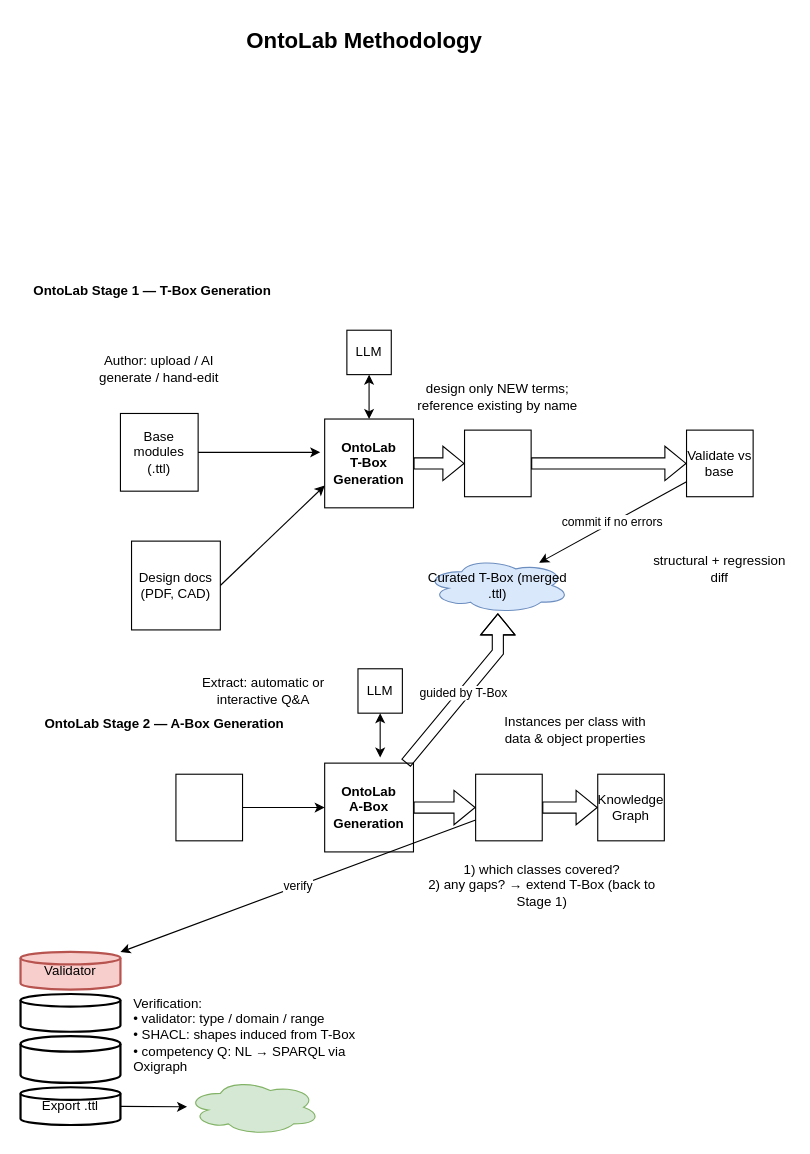
Some shapes in this 810 by 1154 pixel diagram are drawn without their labels. The shapes that lost their labels are listed below. From the top down, each one's centre as x and y in pixels, then its label:
At (x=497, y=463): "Candidate T-Box".
At (x=209, y=807): "Design docs (PDF, DOCX)".
At (x=508, y=807): "A-Box".
At (x=70, y=1012): "SHACL".
At (x=70, y=1059): "Competency Q (SPARQL)".
At (x=253, y=1106): "Conformant ontology".
